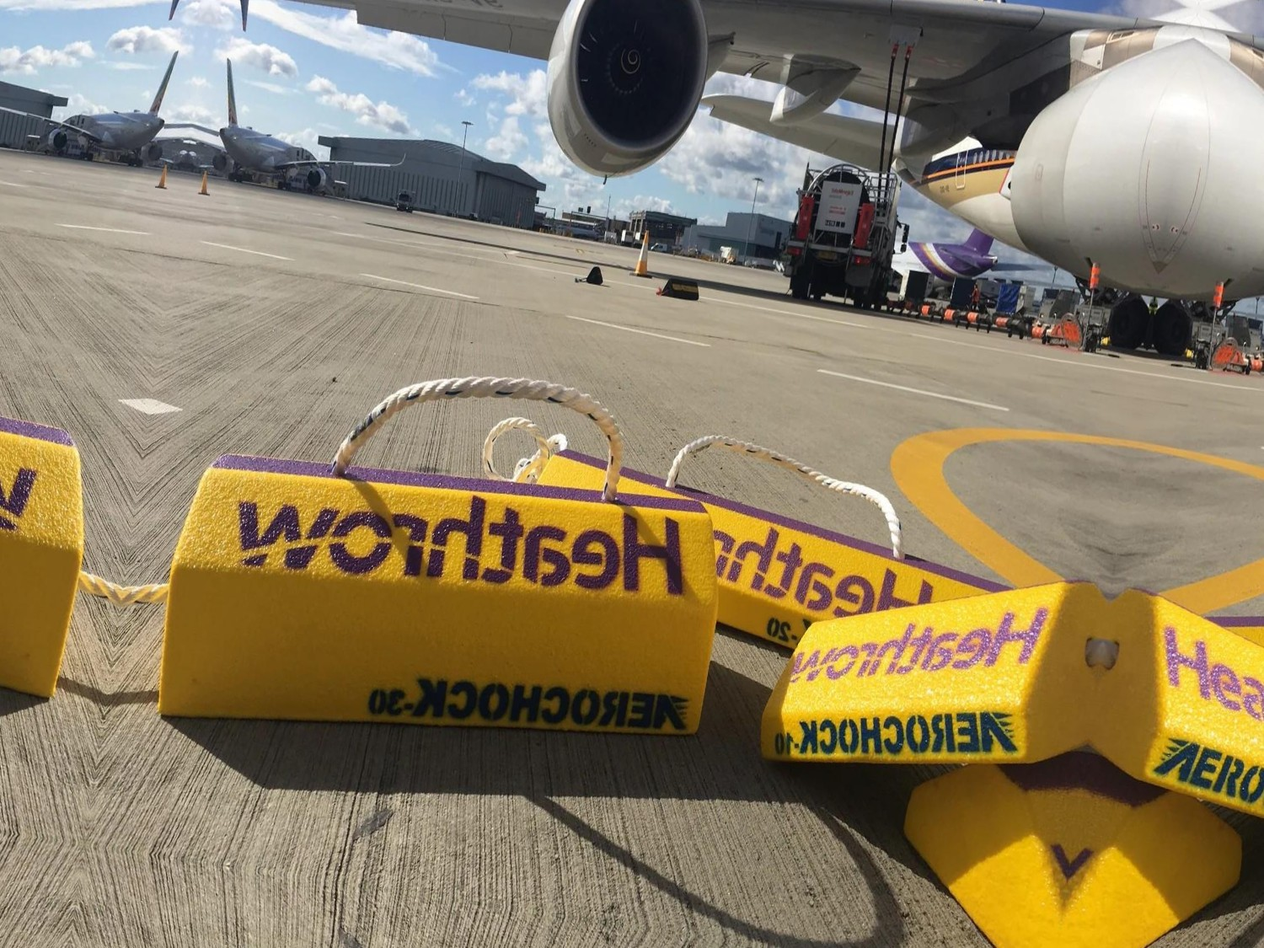chock: (147, 417, 738, 800), (515, 444, 1035, 690), (753, 533, 1110, 808), (1081, 582, 1264, 857), (882, 731, 1086, 948), (1052, 756, 1256, 948)
